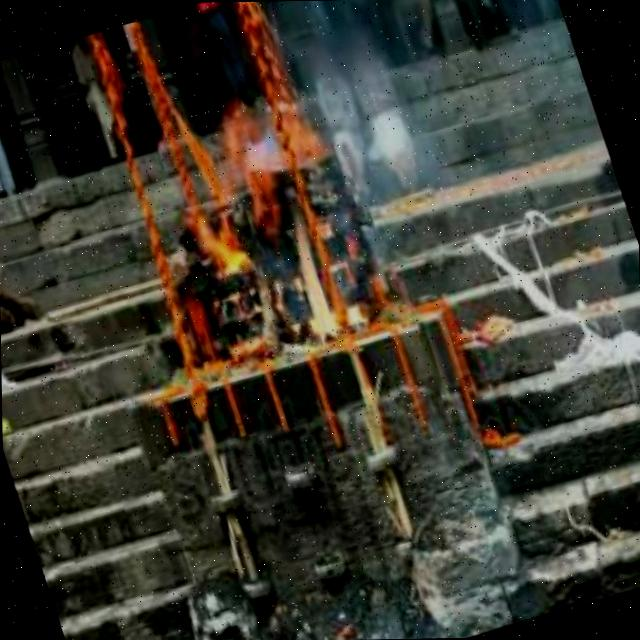fire: (164, 95, 356, 368)
